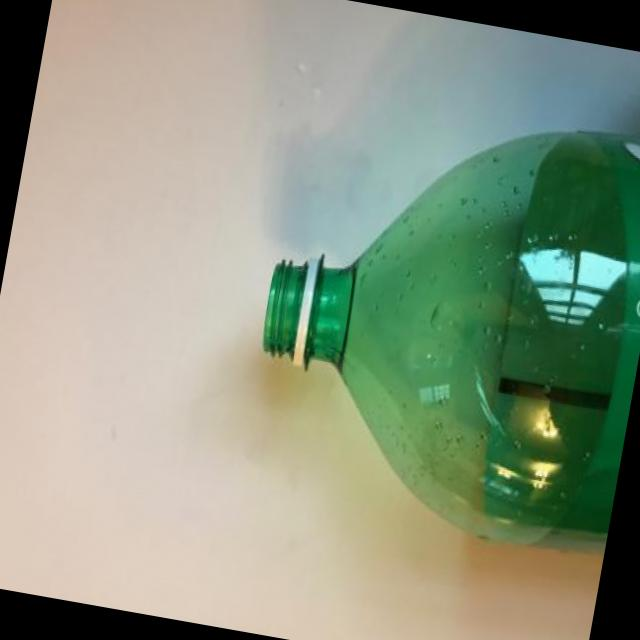Recycle: (229, 63, 640, 568)
